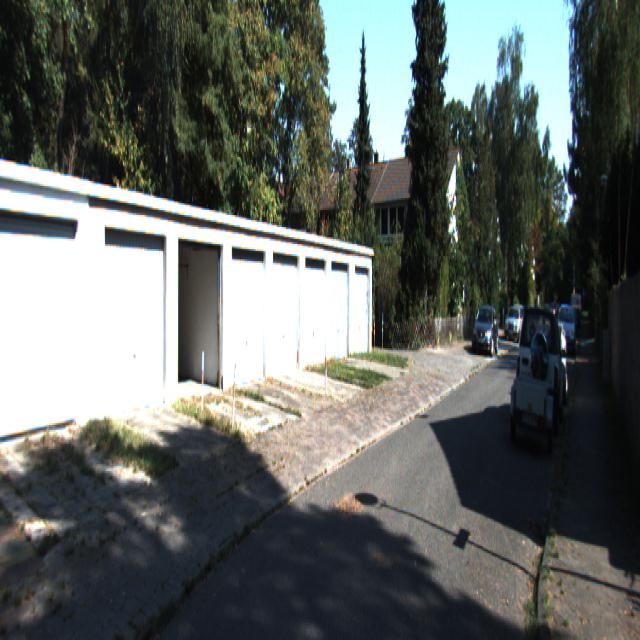Car: (516, 294, 565, 423), (512, 366, 551, 446), (472, 304, 500, 355)
